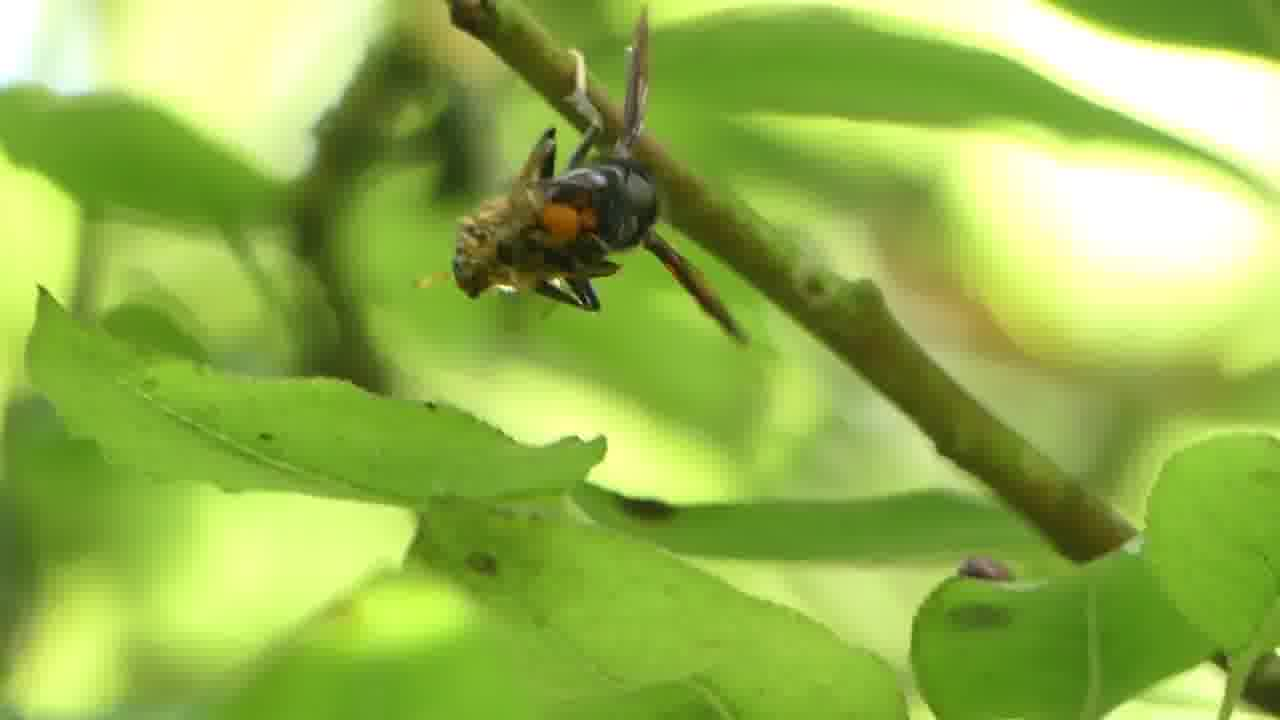hornet: (426, 111, 685, 333)
